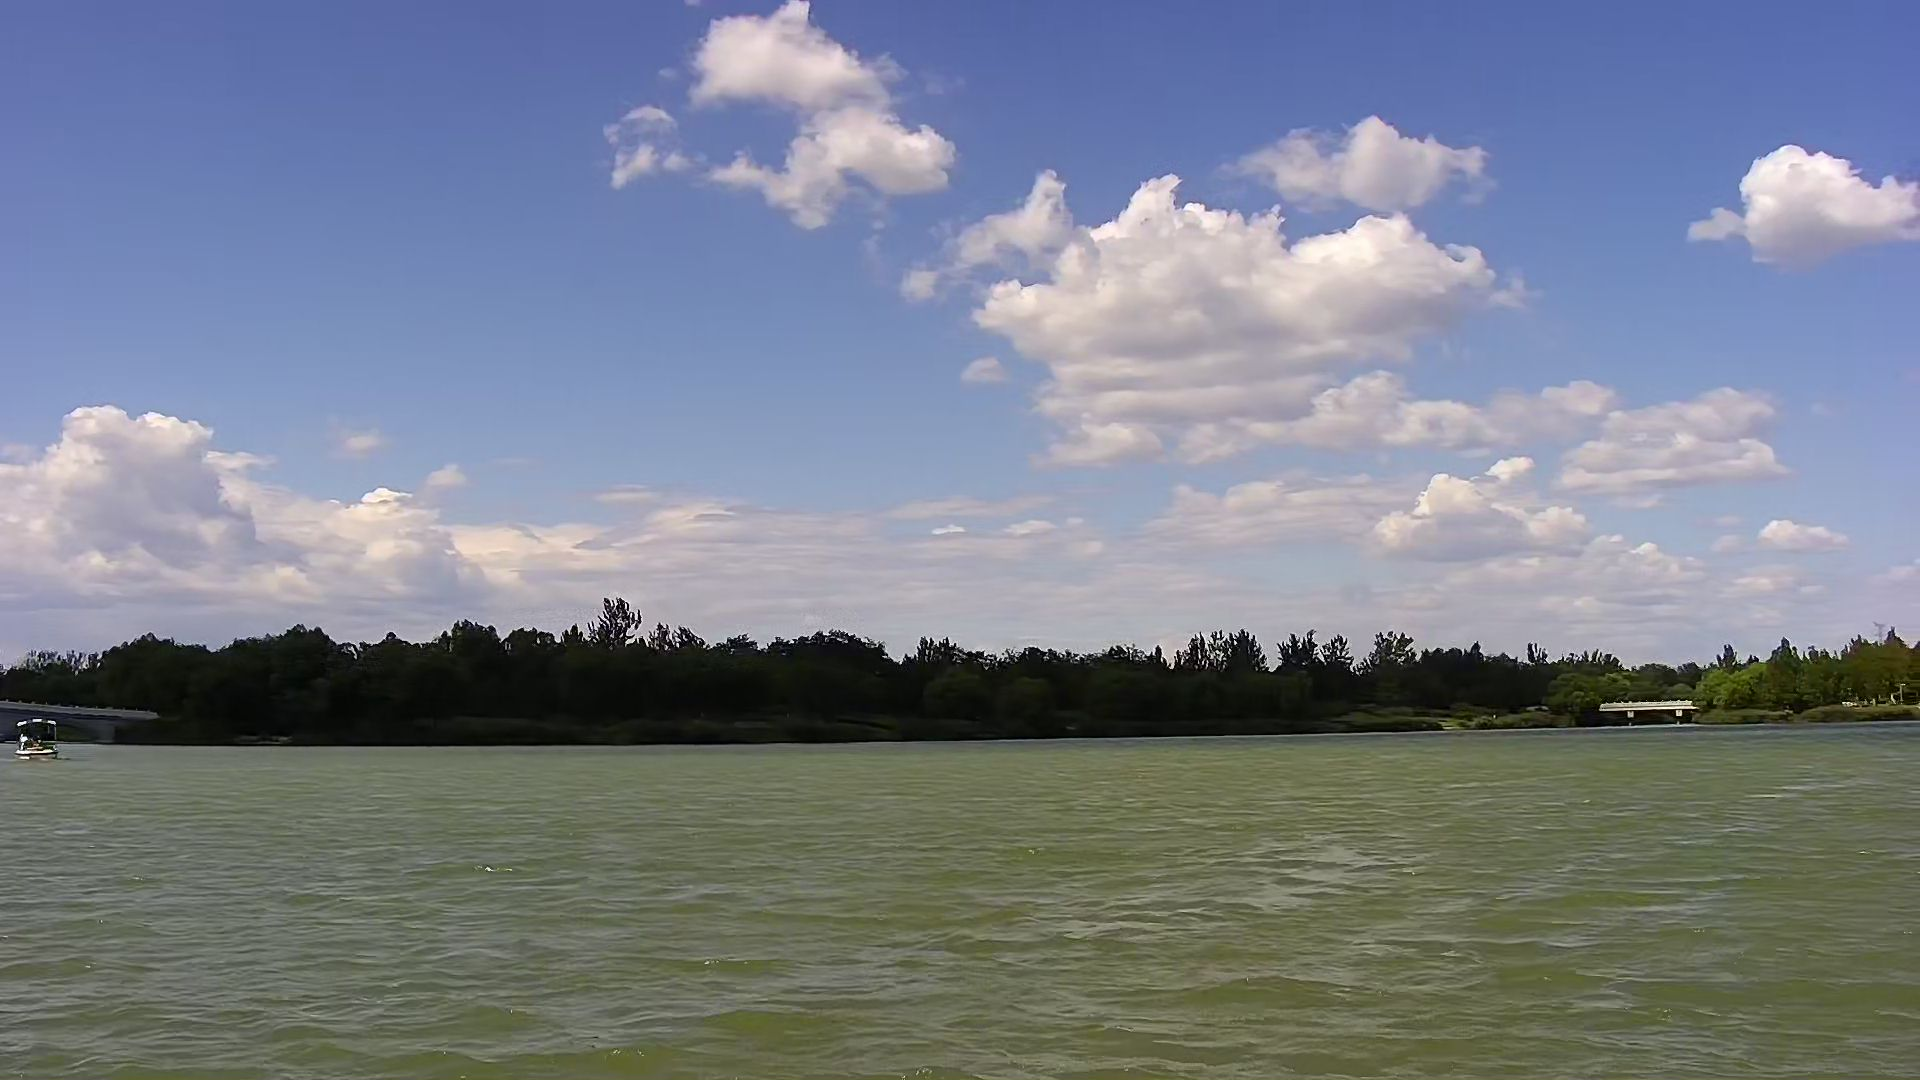boat: (13, 709, 65, 770)
bridge: (1592, 692, 1704, 731)
